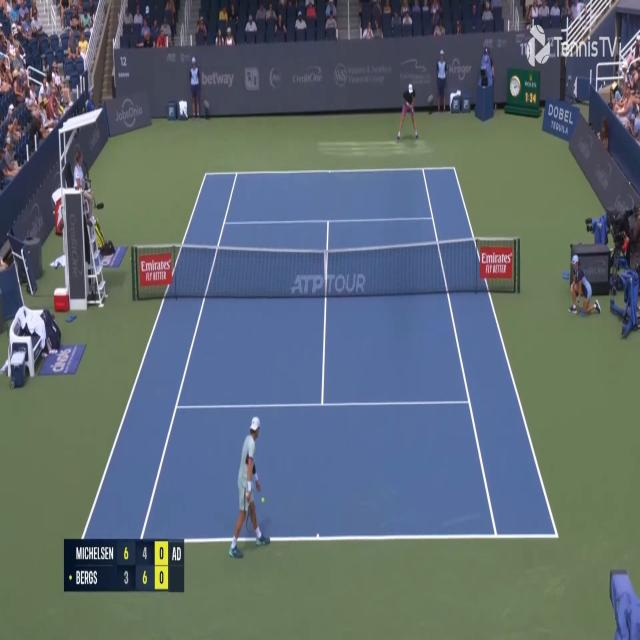tennis-player: (226, 412, 273, 564), (396, 82, 419, 143)
